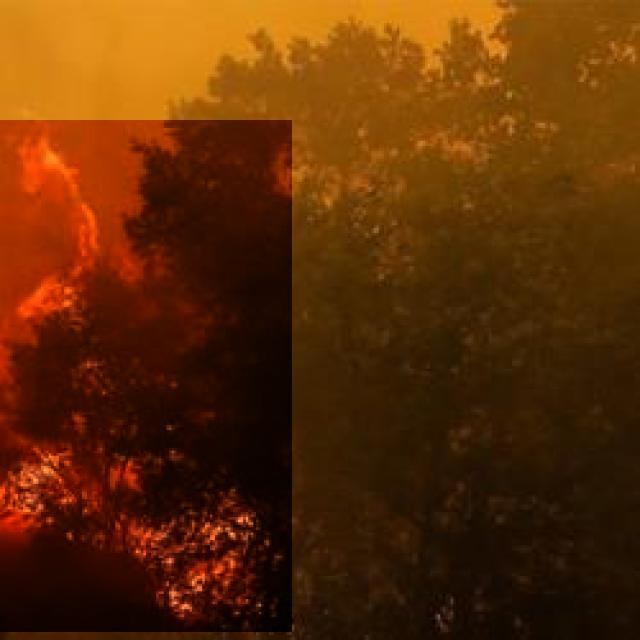Fire: (0, 120, 292, 632)
